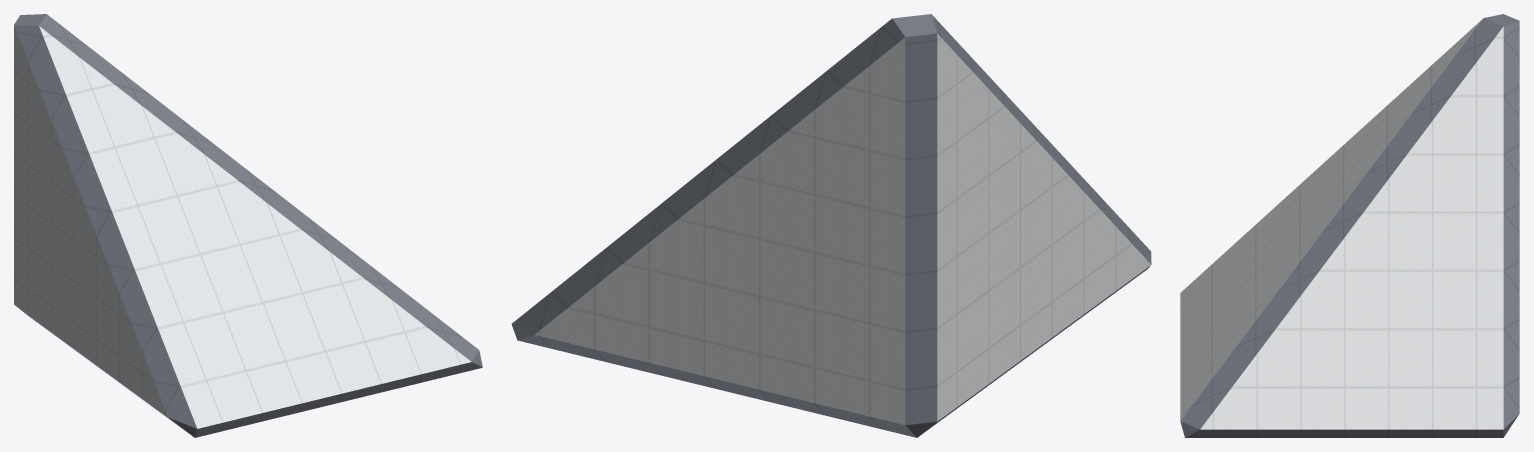
Rendered from R4B_CornerWedge_LOD1.glb.
3 renders of one model, left to right at view 1: azimuth 30°, elevation 25°; view 2: azimuth 150°, elevation 25°; view 3: azimuth 270°, elevation 25°, orthographic. The views are drawn at different scales.
Parts seen in each view (by area): view 1: R4B_CornerWedge_LOD1; view 2: R4B_CornerWedge_LOD1; view 3: R4B_CornerWedge_LOD1.
Boxes of the visible parts, x1,y1,x2,y2 form: R4B_CornerWedge_LOD1: (14, 14, 482, 437); R4B_CornerWedge_LOD1: (511, 14, 1151, 437); R4B_CornerWedge_LOD1: (1180, 14, 1519, 437).
Size of the model in its own units: 0.503 by 0.4666 by 0.503.
2 materials, 2 textured.
